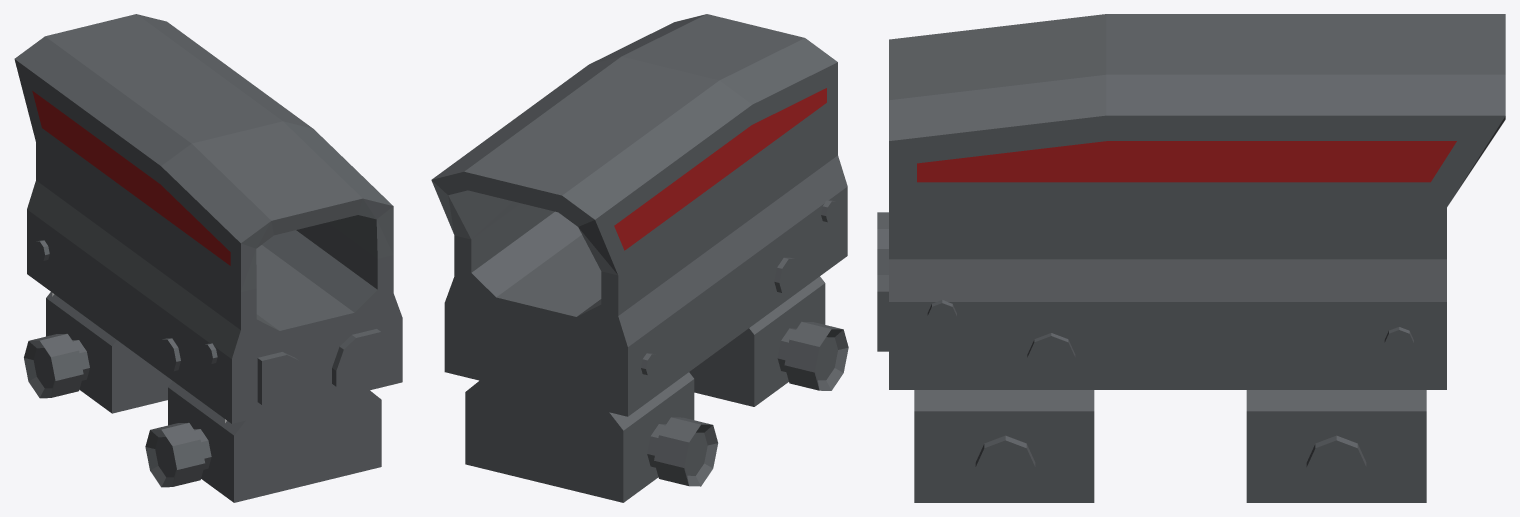
File: holo.glb
3 views of the same model, side by side, from view 1: azimuth 30°, elevation 25°; view 2: azimuth 150°, elevation 25°; view 3: azimuth 270°, elevation 25° (orthographic). The views are drawn at different scales.
Parts seen in each view (by area): view 1: Holographic_East; view 2: Holographic_East; view 3: Holographic_East.
Boxes of the visible parts, x1,y1,x2,y2 form: Holographic_East: [14, 14, 402, 502]; Holographic_East: [431, 14, 848, 502]; Holographic_East: [877, 14, 1505, 502].
Bounding box in the file's own units: 0.0386 × 0.0546 × 0.0759.
